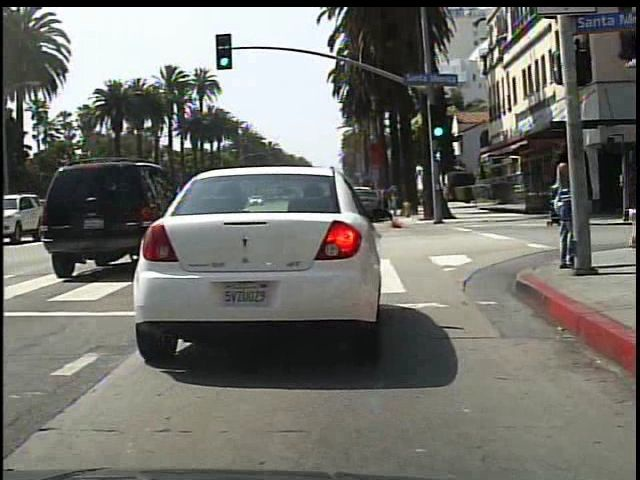person: (531, 139, 571, 273)
